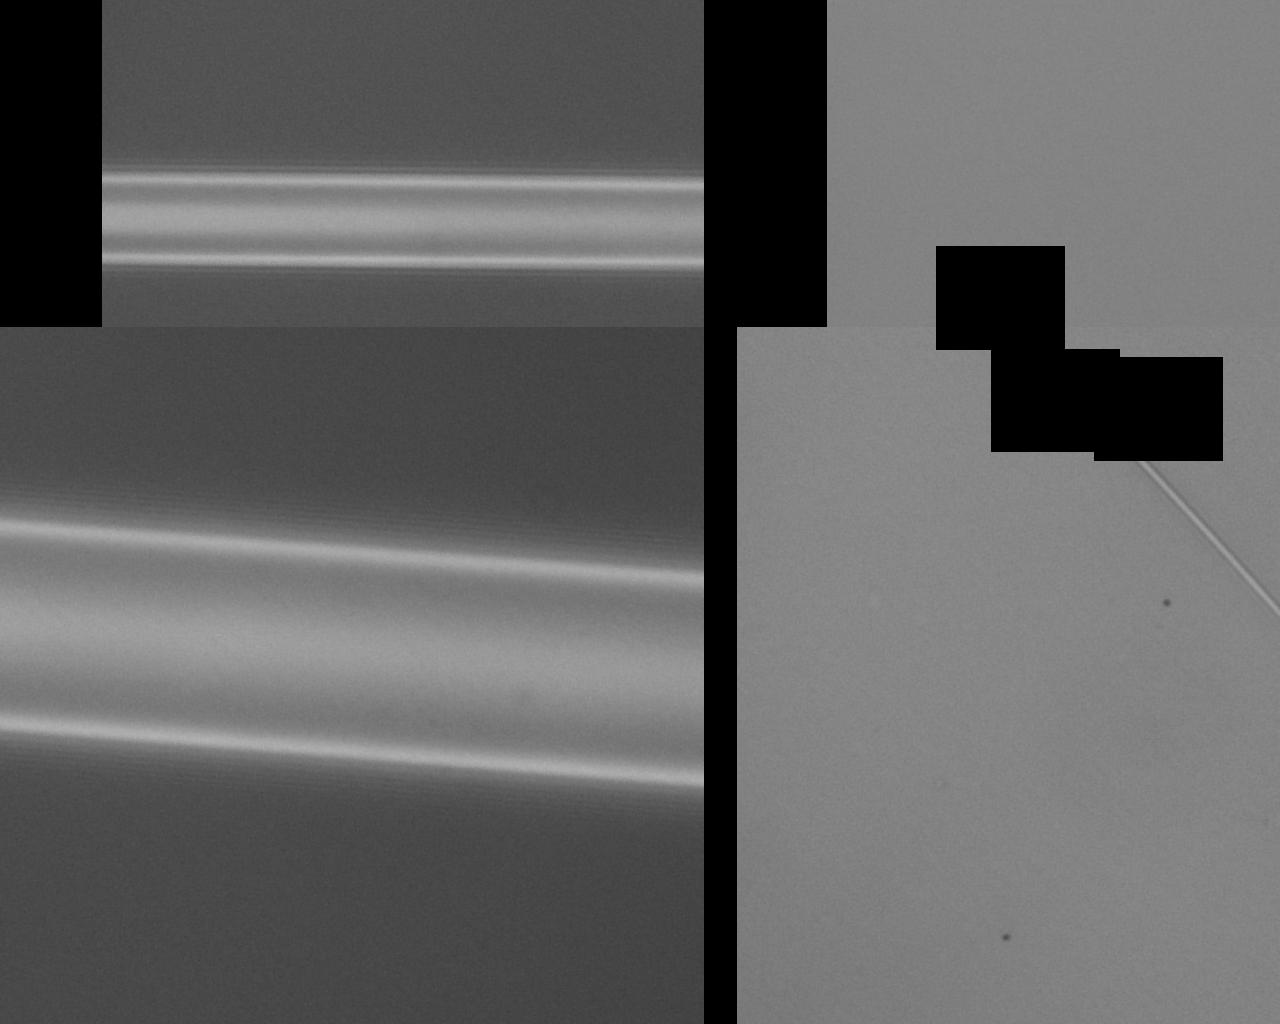fiber: (55, 0, 1280, 807)
